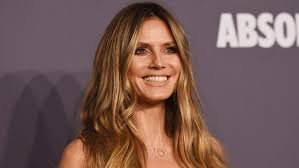white_female: (117, 17, 187, 97)
